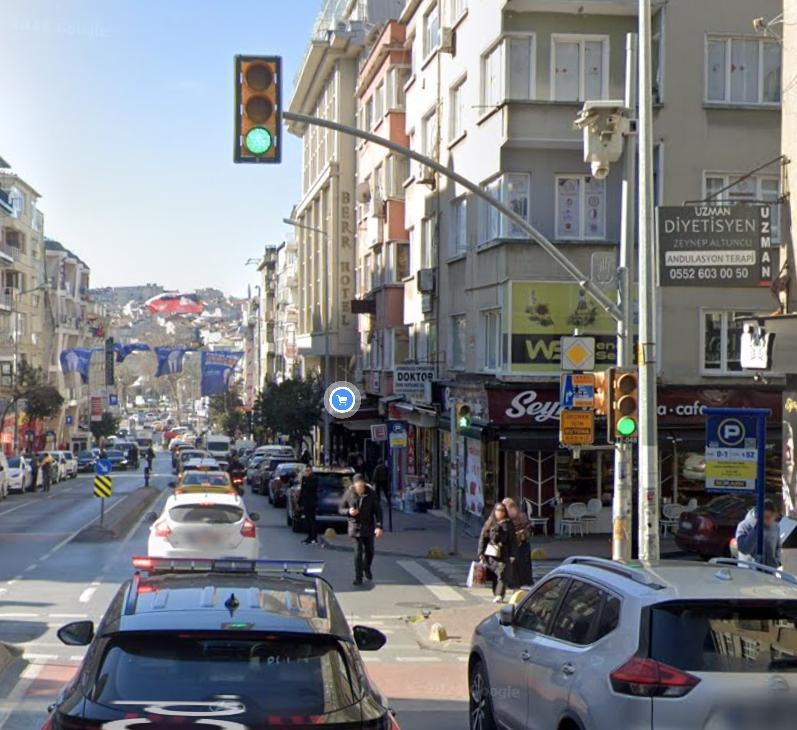greenlight: (238, 54, 283, 165), (608, 373, 641, 447)
